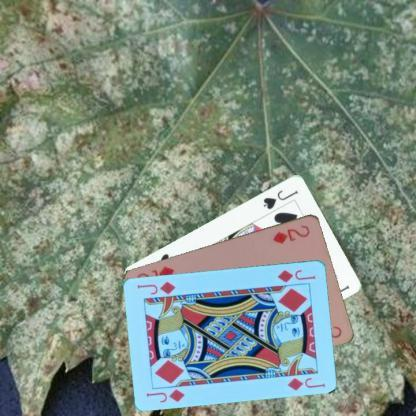2d: (270, 221, 312, 245)
Jd: (144, 386, 186, 404), (275, 267, 317, 284)
Js: (260, 187, 300, 210)
